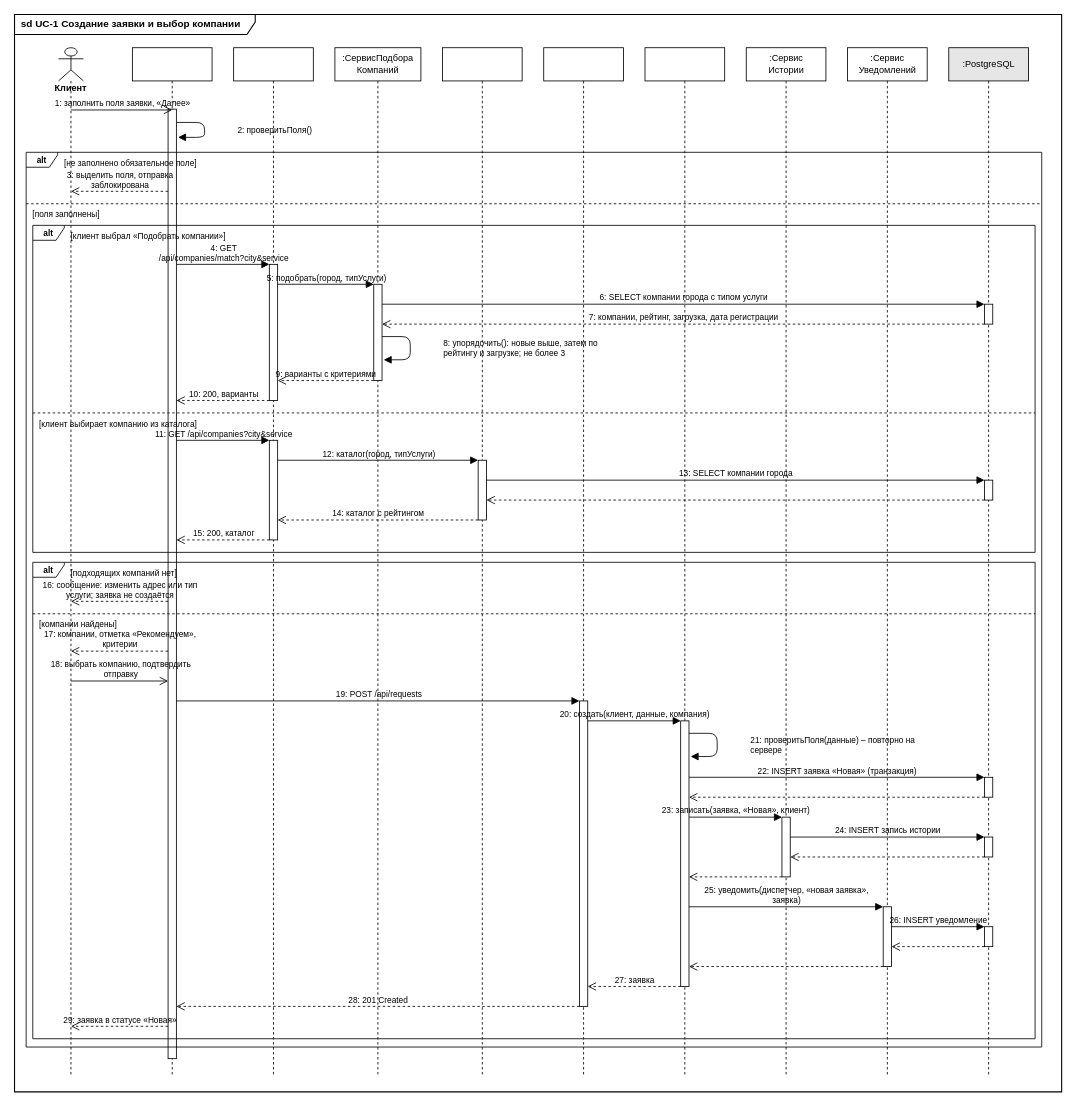
This 1077x1107 diagram has some shape labels left out. The box of each missing label's shape, as (x1, y1, x2, y2) in pixels:
:Контроллер Заявок: (543, 47, 623, 1075)
:Контроллер Компаний: (233, 47, 313, 1075)
:Сервис Заявок: (644, 47, 725, 1075)
:Сервис Компаний: (442, 47, 522, 1075)
:ФормаЗаявки: (132, 47, 212, 1075)
